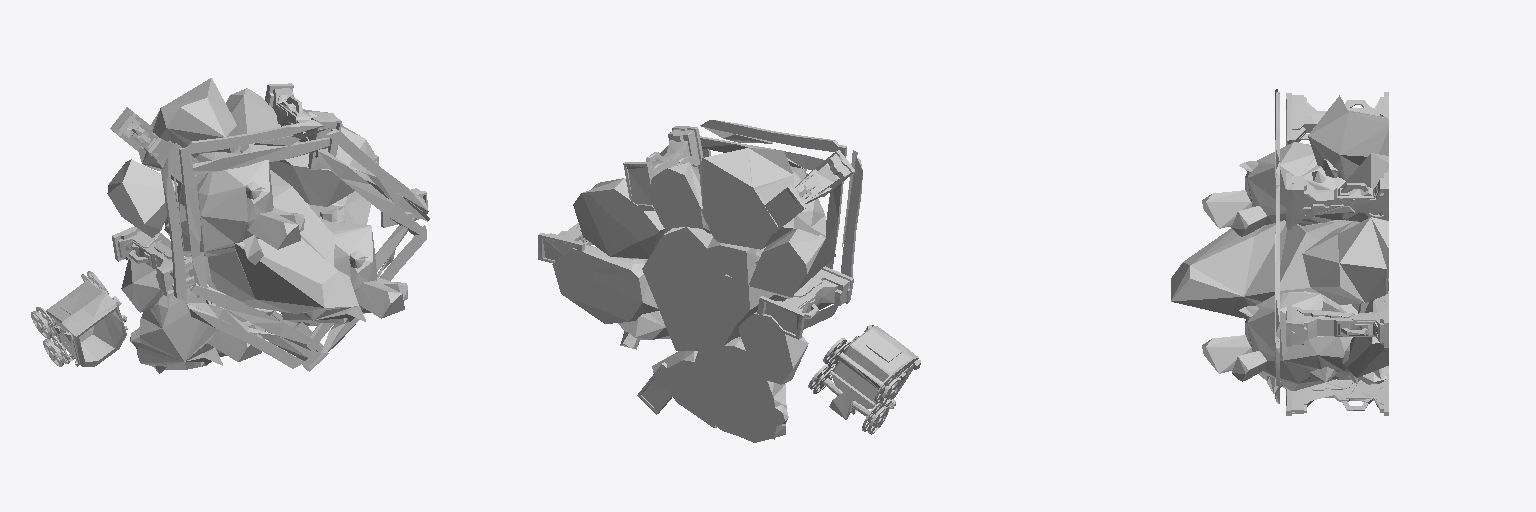
File: MineralFactory.obj
The picture shows the model from 3 angles: view 1: azimuth 30°, elevation 25°; view 2: azimuth 150°, elevation 25°; view 3: azimuth 270°, elevation 25°; orthographic projection.
Parts seen in each view (by area): view 1: Object.1; view 2: Object.1; view 3: Object.1.
Boxes of the visible parts, x1,y1,x2,y2 form: Object.1: [31, 78, 429, 373]; Object.1: [538, 120, 920, 442]; Object.1: [1171, 89, 1388, 415].
Bounding box in the file's own units: 79.3 × 59.95 × 42.98.